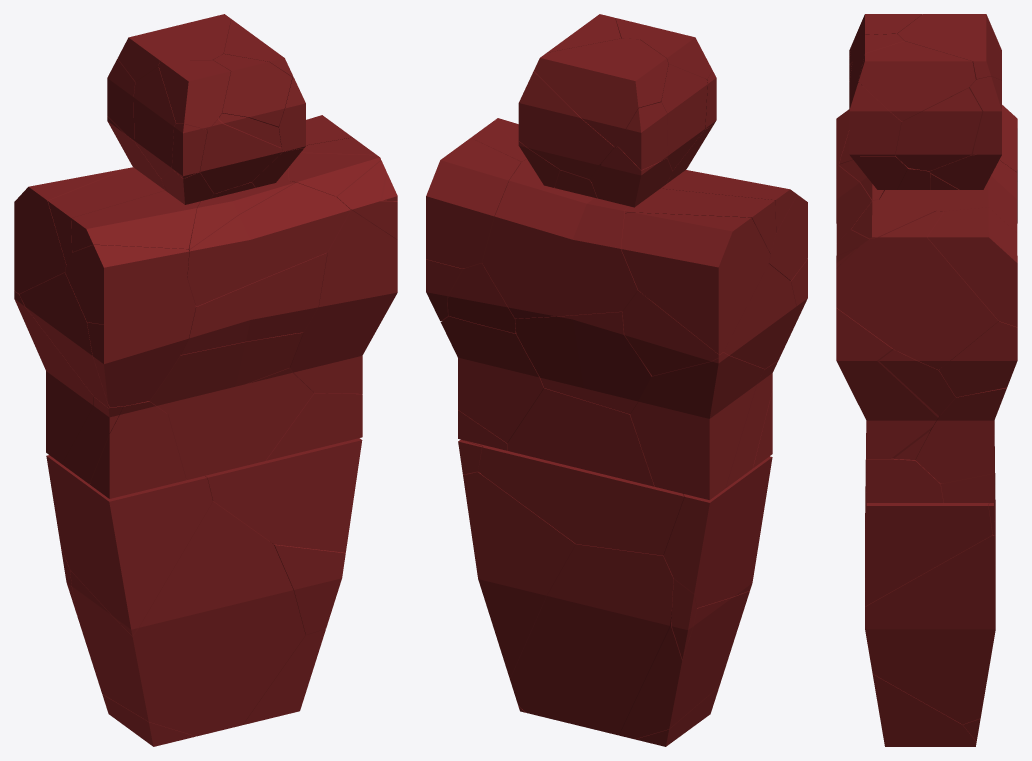
File: Target_Red_Broken.fbx
3 renders of one model, left to right at view 1: azimuth 30°, elevation 25°; view 2: azimuth 150°, elevation 25°; view 3: azimuth 270°, elevation 25°, orthographic.
Parts seen in each view (by area): view 1: Cube.003_cell.011, Cube.003_cell.001, Cube.004_cell.011, Cube.003_cell.005, Cube.004_cell.029, Cube.004_cell.013, Cube.004_cell.021, Cube.004_cell.019, Cube.004_cell.003, Cube.004_cell, Cube.004_cell.015, Cube.004_cell.030 (+26 smaller); view 2: Cube.003_cell.006, Cube.004_cell.020, Cube.004_cell.022, Cube.004_cell.009, Cube.003_cell.003, Cube.003_cell.010, Cube.003_cell.001, Cube.004_cell.014, Cube.005_cell.017, Cube.003_cell.011, Cube.004_cell.006, Cube.004_cell.026 (+24 smaller); view 3: Cube.003_cell.010, Cube.004_cell.008, Cube.003_cell.005, Cube.004_cell.011, Cube.004_cell.026, Cube.005_cell.005, Cube.004_cell.010, Cube.005_cell.012, Cube.003_cell.004, Cube.005_cell.017, Cube.004_cell.025, Cube.004_cell.020 (+16 smaller).
Boxes of the visible parts, x1=… form: Cube.003_cell.011: x1=70, y1=501, x2=305, y2=736; Cube.003_cell.001: x1=46, y1=455, x2=212, y2=635; Cube.004_cell.011: x1=289, y1=209, x2=397, y2=393; Cube.003_cell.005: x1=205, y1=438, x2=362, y2=552; Cube.004_cell.029: x1=187, y1=182, x2=350, y2=306; Cube.004_cell.013: x1=168, y1=368, x2=313, y2=479; Cube.004_cell.021: x1=87, y1=278, x2=195, y2=407; Cube.004_cell.019: x1=181, y1=253, x2=327, y2=354; Cube.004_cell.003: x1=65, y1=245, x2=189, y2=324; Cube.004_cell: x1=89, y1=401, x2=186, y2=498; Cube.004_cell.015: x1=150, y1=332, x2=303, y2=413; Cube.004_cell.030: x1=71, y1=190, x2=200, y2=252; Cube.003_cell.006: x1=510, y1=544, x2=673, y2=735; Cube.004_cell.020: x1=482, y1=159, x2=648, y2=318; Cube.004_cell.022: x1=621, y1=212, x2=770, y2=354; Cube.004_cell.009: x1=630, y1=349, x2=764, y2=499; Cube.003_cell.003: x1=478, y1=446, x2=684, y2=555; Cube.003_cell.010: x1=463, y1=472, x2=575, y2=678; Cube.003_cell.001: x1=663, y1=456, x2=772, y2=607; Cube.004_cell.014: x1=514, y1=311, x2=652, y2=413; Cube.005_cell.017: x1=534, y1=38, x2=668, y2=146; Cube.003_cell.011: x1=619, y1=590, x2=749, y2=739; Cube.004_cell.006: x1=507, y1=388, x2=654, y2=486; Cube.004_cell.026: x1=426, y1=138, x2=520, y2=268; Cube.003_cell.010: x1=865, y1=522, x2=995, y2=724; Cube.004_cell.008: x1=836, y1=211, x2=998, y2=369; Cube.003_cell.005: x1=865, y1=492, x2=992, y2=606; Cube.004_cell.011: x1=836, y1=308, x2=938, y2=458; Cube.004_cell.026: x1=927, y1=207, x2=1017, y2=327; Cube.005_cell.005: x1=858, y1=41, x2=975, y2=121; Cube.004_cell.010: x1=915, y1=387, x2=1006, y2=483; Cube.005_cell.012: x1=895, y1=88, x2=982, y2=170; Cube.003_cell.004: x1=872, y1=674, x2=976, y2=746; Cube.005_cell.017: x1=897, y1=14, x2=1001, y2=80; Cube.004_cell.025: x1=939, y1=321, x2=1017, y2=397; Cube.004_cell.020: x1=879, y1=160, x2=1017, y2=232.
Size of the model in its own units: 175 by 380 by 92.66.
